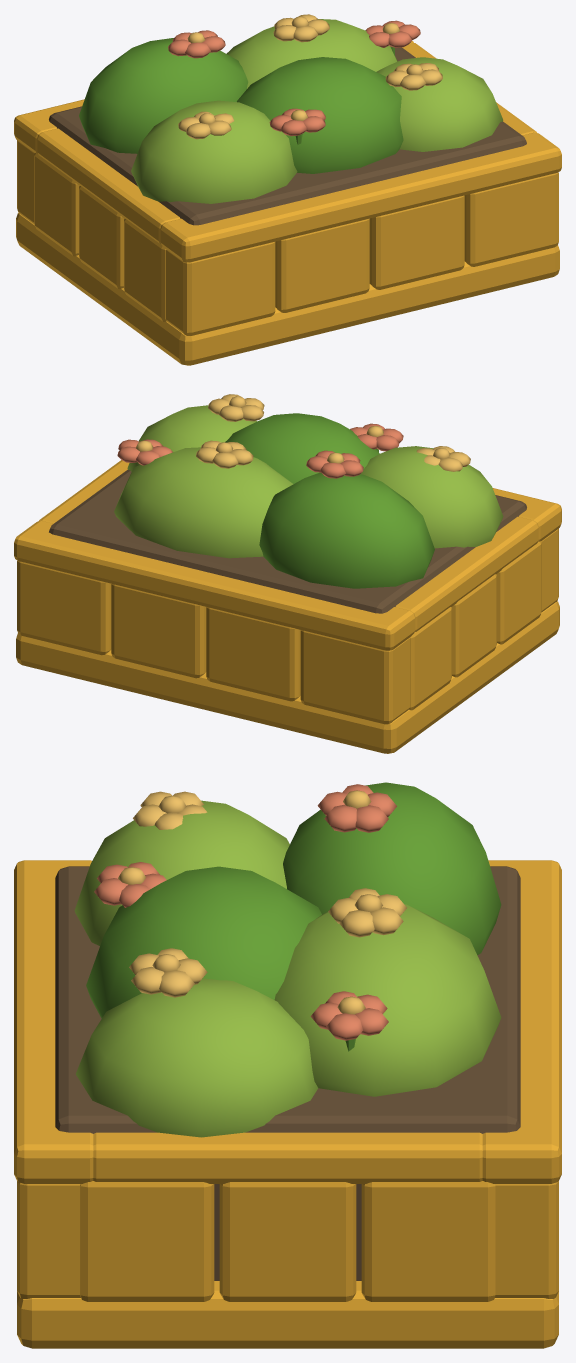
Rendered from planter.glb.
3 views of the same model, one above another, from view 1: azimuth 30°, elevation 25°; view 2: azimuth 150°, elevation 25°; view 3: azimuth 270°, elevation 25° (orthographic). The views are drawn at different scales.
Visible parts, largest first — view 1: Boulevard_gold.005, Boulevard_leaf_light.001, Boulevard_leaf.001, Boulevard_soil, Boulevard_yellow.002, Boulevard_coral.001; view 2: Boulevard_gold.005, Boulevard_leaf_light.001, Boulevard_leaf.001, Boulevard_soil, Boulevard_yellow.002, Boulevard_coral.001; view 3: Boulevard_gold.005, Boulevard_leaf_light.001, Boulevard_leaf.001, Boulevard_soil, Boulevard_yellow.002, Boulevard_coral.001.
Part boxes in pixels (box(x1,y1,x2,y2)): Boulevard_gold.005: box(14, 41, 561, 365); Boulevard_leaf_light.001: box(131, 19, 503, 203); Boulevard_leaf.001: box(79, 38, 403, 173); Boulevard_soil: box(49, 47, 526, 225); Boulevard_yellow.002: box(178, 14, 442, 139); Boulevard_coral.001: box(168, 20, 420, 136); Boulevard_gold.005: box(14, 460, 561, 753); Boulevard_leaf_light.001: box(114, 405, 503, 558); Boulevard_leaf.001: box(225, 413, 434, 588); Boulevard_soil: box(49, 469, 526, 613); Boulevard_yellow.002: box(136, 394, 470, 471); Boulevard_coral.001: box(117, 423, 403, 478); Boulevard_gold.005: box(14, 860, 561, 1348); Boulevard_leaf_light.001: box(74, 800, 501, 1137); Boulevard_leaf.001: box(86, 782, 501, 1051); Boulevard_soil: box(55, 866, 520, 1280); Boulevard_yellow.002: box(118, 790, 406, 1014); Boulevard_coral.001: box(94, 784, 396, 1040).
Size of the model in its own units: 1.2 by 0.694 by 0.95.
